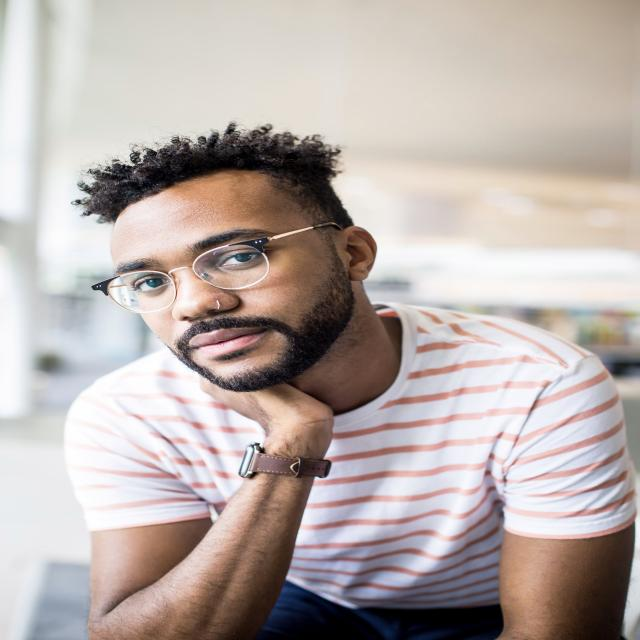adult: (52, 123, 629, 640)
